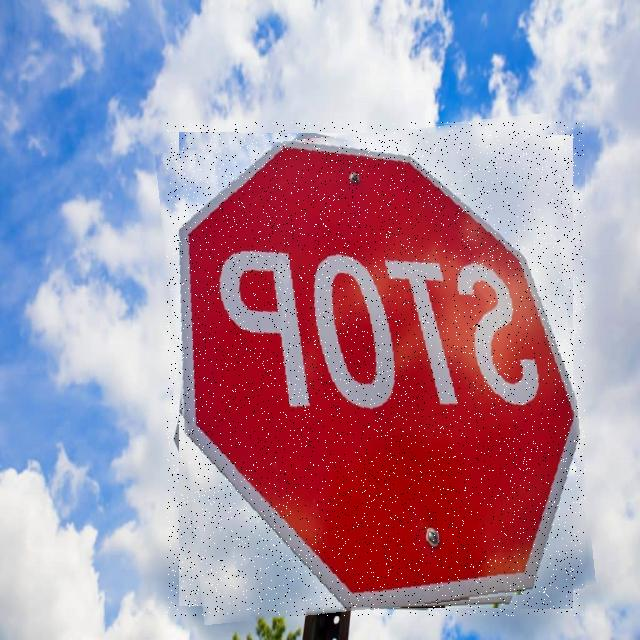stop: (167, 122, 585, 616)
